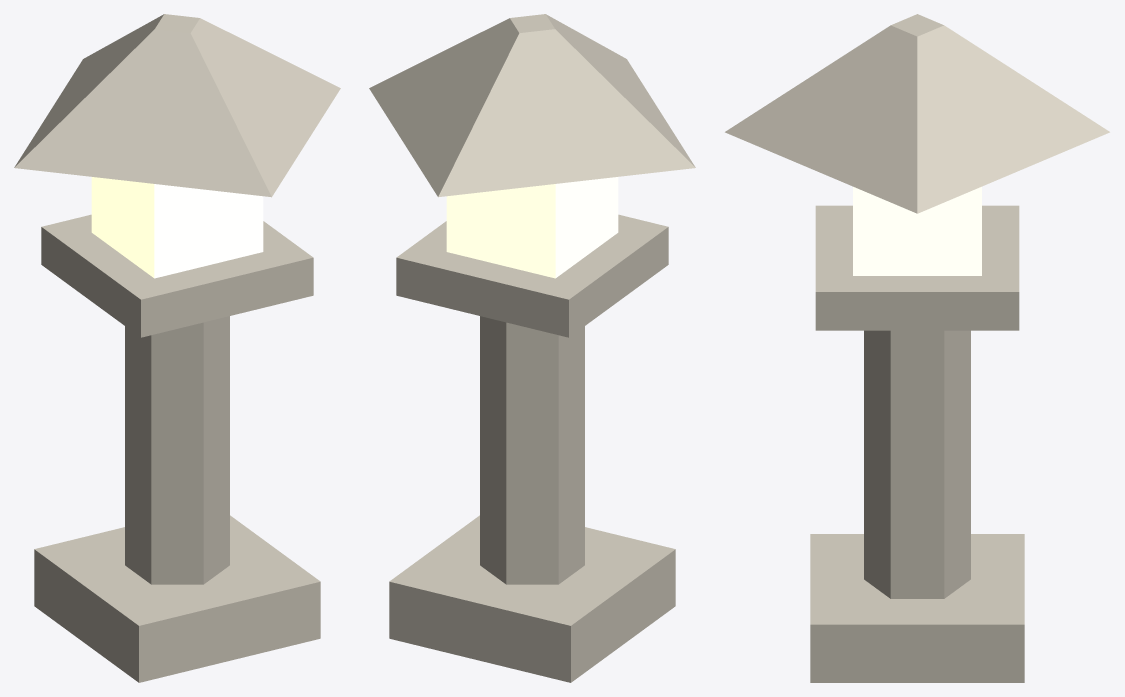
File: Lantern.fbx
The picture shows the model from 3 angles, left to right: view 1: azimuth 30°, elevation 25°; view 2: azimuth 150°, elevation 25°; view 3: azimuth 270°, elevation 25°; orthographic projection. The views are drawn at different scales.
Parts seen in each view (by area): view 1: Lantern; view 2: Lantern; view 3: Lantern.
Part boxes in pixels (box(x1,y1,x2,y2)): Lantern: box(14, 14, 340, 682); Lantern: box(369, 14, 695, 682); Lantern: box(725, 14, 1109, 682).
Bounding box in the file's own units: 0.72 × 1.26 × 0.72.
